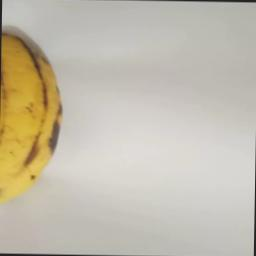Banana Unripe: (0, 27, 65, 205)
